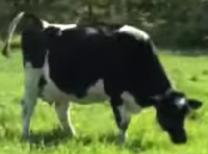cow: (21, 19, 203, 144)
